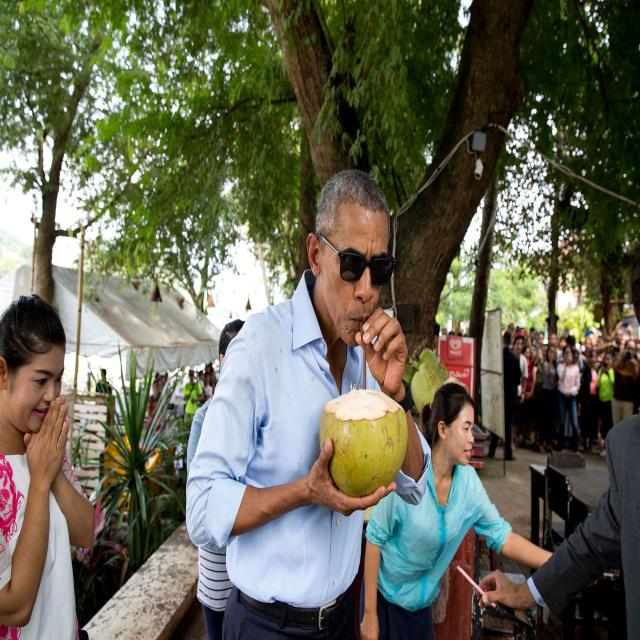body: (184, 165, 438, 640), (471, 243, 640, 639), (359, 382, 554, 640), (0, 289, 99, 640), (185, 317, 247, 640), (186, 318, 247, 640), (433, 317, 640, 368), (486, 331, 522, 462), (555, 345, 581, 456), (613, 341, 639, 427), (539, 343, 559, 454), (511, 334, 529, 450), (582, 347, 600, 457), (596, 352, 615, 441), (183, 368, 204, 446), (564, 348, 580, 450), (520, 345, 532, 443), (609, 319, 634, 352), (148, 380, 162, 418), (95, 367, 112, 395), (198, 372, 214, 401), (196, 370, 208, 408), (206, 360, 219, 386), (154, 366, 169, 384)
